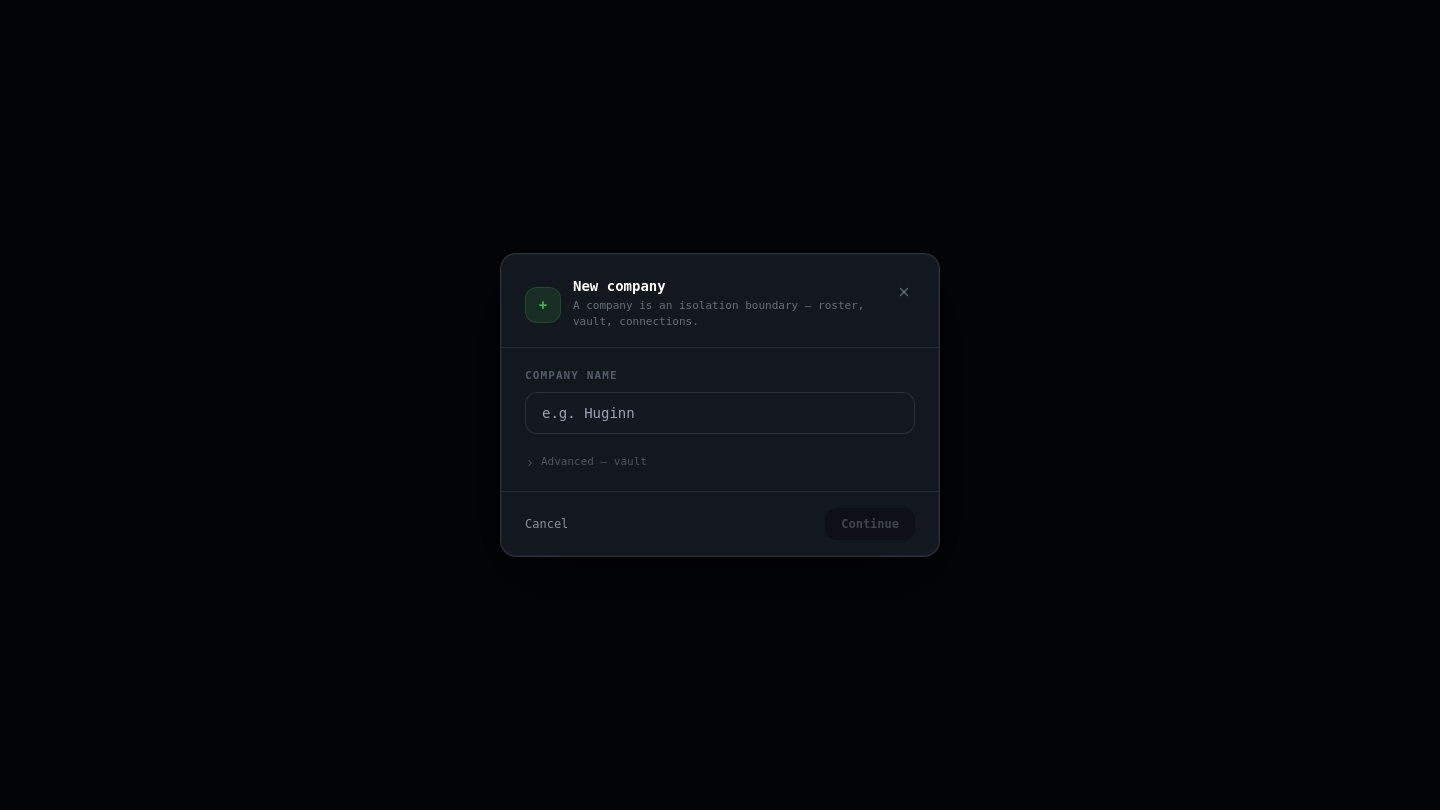
Scenario: CompanyCreateModal › create-company flow renders name step, not a vault-first form dump
Expected: the element with test id "company-create-modal" shows "New company", x1=573 y1=278 x2=666 y2=294
Expected: the element with test id "company-create-modal" shows "company", x1=573 y1=278 x2=666 y2=294
Type "Lab" into the field with test id "company-name-input" at (720, 413), box x1=525 y1=392 x2=915 y2=434
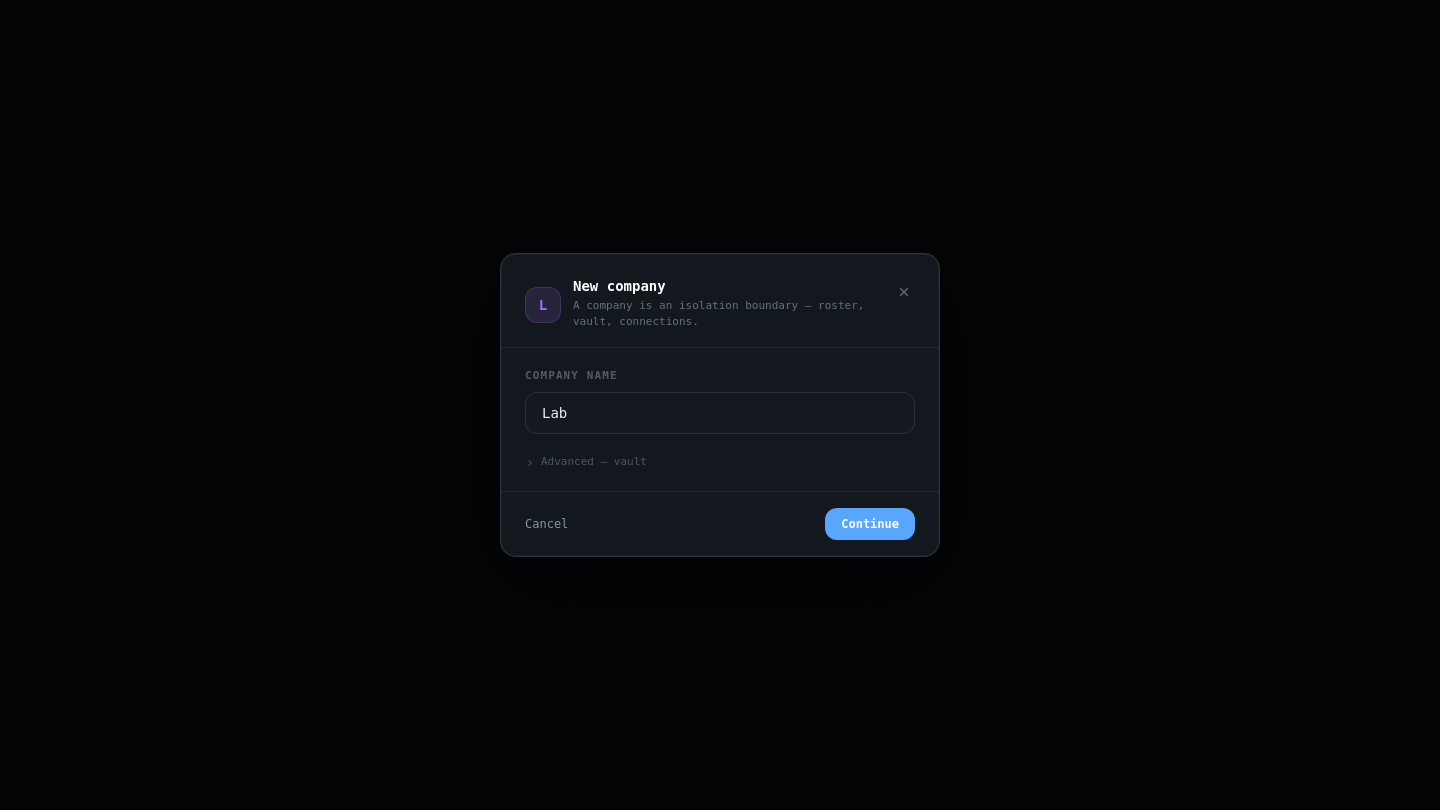
Result: the button with test id "company-create-continue" is enabled
Click the button with test id "company-create-continue" at (870, 524), box x1=825 y1=508 x2=915 y2=540
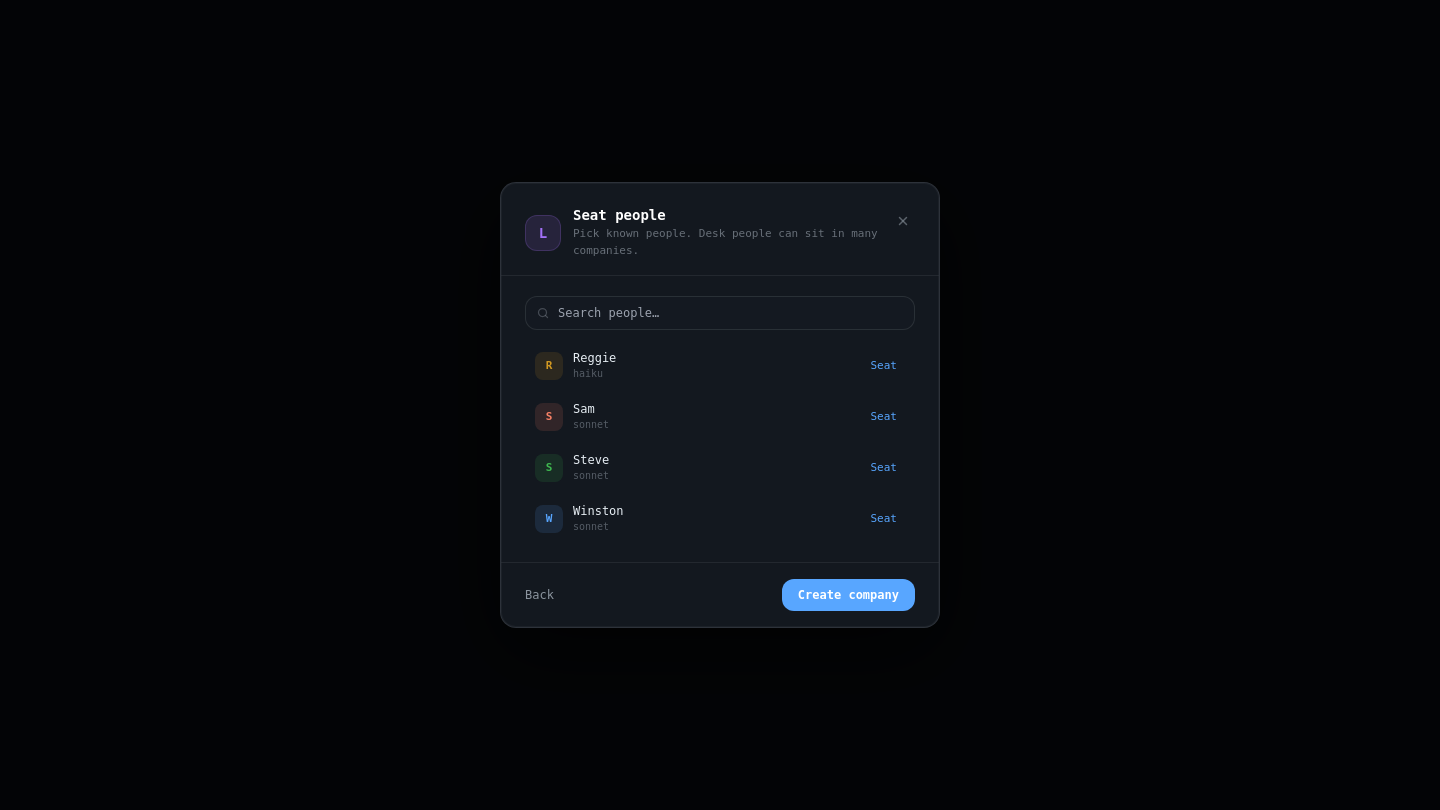
Result: the element with test id "company-roster-picker" is shown at x1=525 y1=296 x2=915 y2=542
Result: the button with test id "company-create-submit" is shown at x1=782 y1=579 x2=915 y2=611
Result: the text "Seat people" is shown at x1=573 y1=207 x2=666 y2=223
